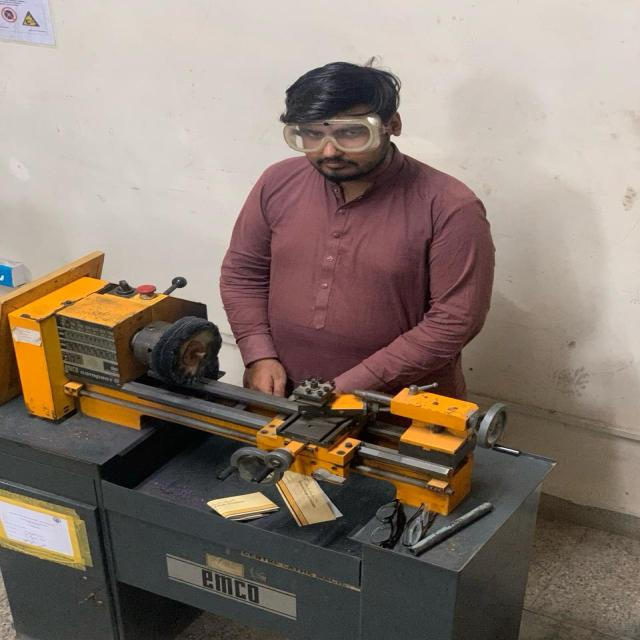googles: (270, 116, 388, 158)
